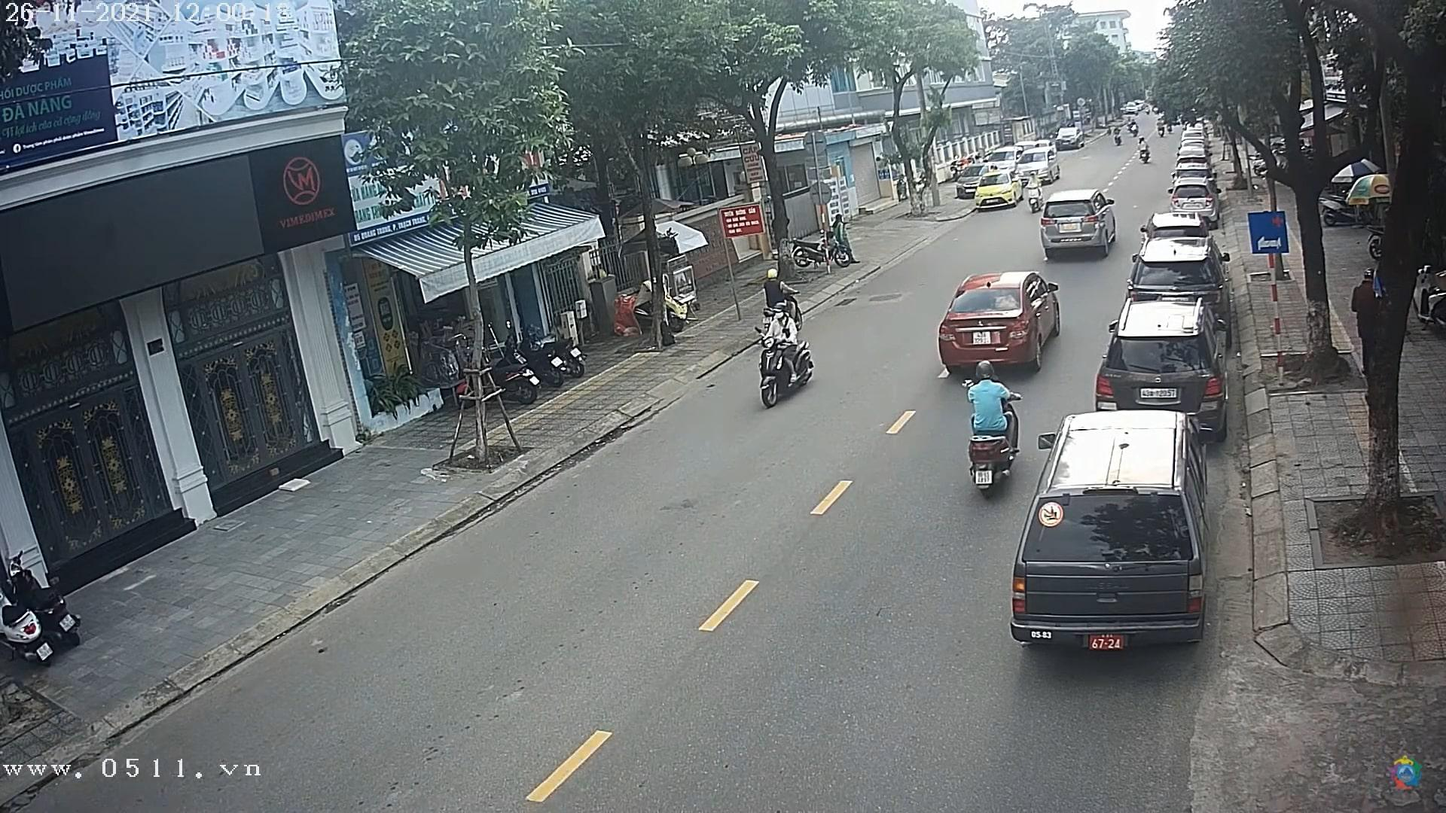car: (1014, 410, 1208, 651), (1097, 298, 1227, 422), (941, 272, 1066, 372), (1127, 241, 1229, 300), (1035, 193, 1118, 263), (1141, 210, 1215, 243), (1167, 166, 1212, 190), (1168, 160, 1210, 179), (1057, 126, 1087, 149)
motorbike: (962, 405, 1026, 498), (758, 324, 819, 411)
